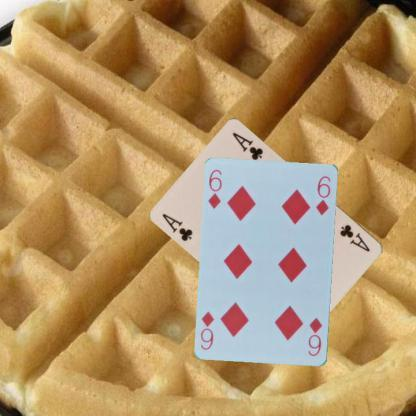6d: (206, 166, 224, 210), (306, 315, 324, 358)
Ac: (160, 210, 195, 243), (338, 221, 372, 253)
